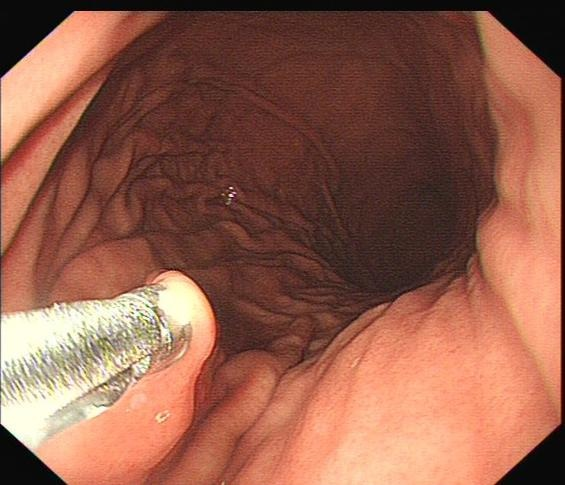Polyp: (139, 267, 239, 371)
